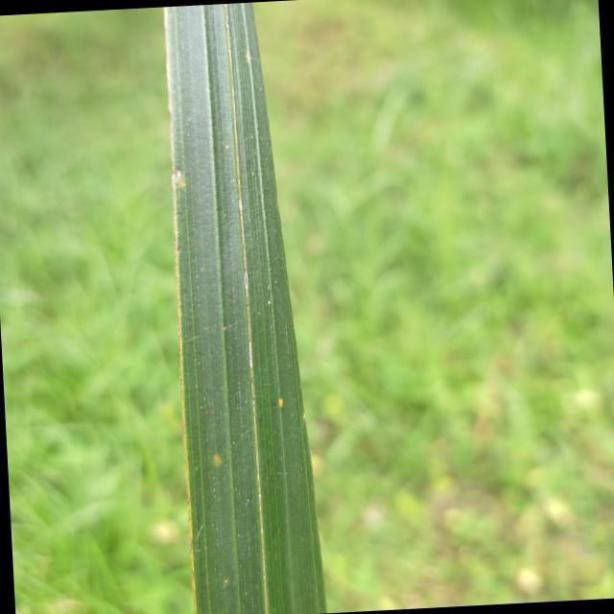Boron: (163, 0, 326, 614)
